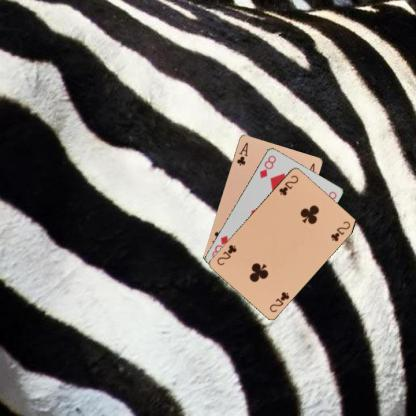2c: (276, 172, 300, 197), (267, 289, 291, 313)
8d: (257, 153, 278, 179)
Ac: (234, 139, 249, 167)
